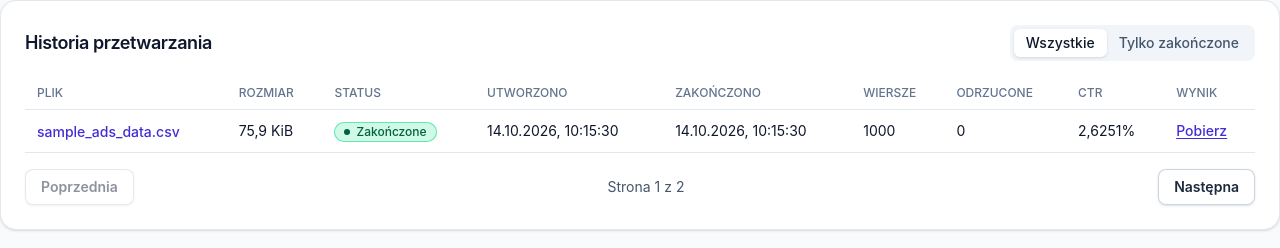
Test: JobHistory › asks only for finished jobs under the finished filter and starts again at page 1
Step 1. Click the button "Następna" → (1207, 187), box [1158,169,1255,205]
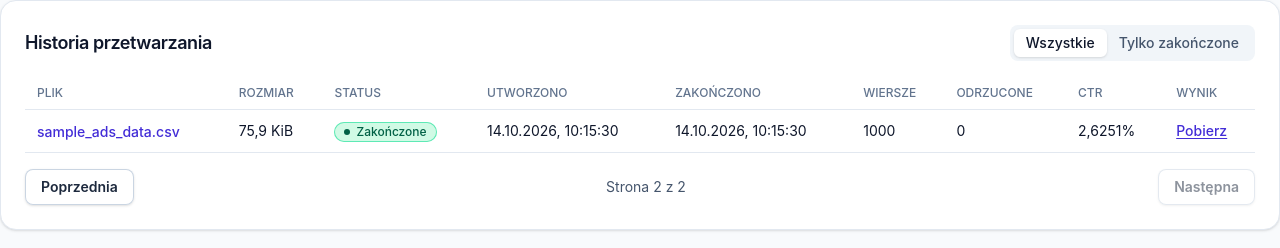
Expected: the text "Strona 2 z 2" is shown, [606,177,686,197]
Step 2. Click the radio button labelled "Tylko zakończone" → (1179, 42), box [1119,34,1239,51]
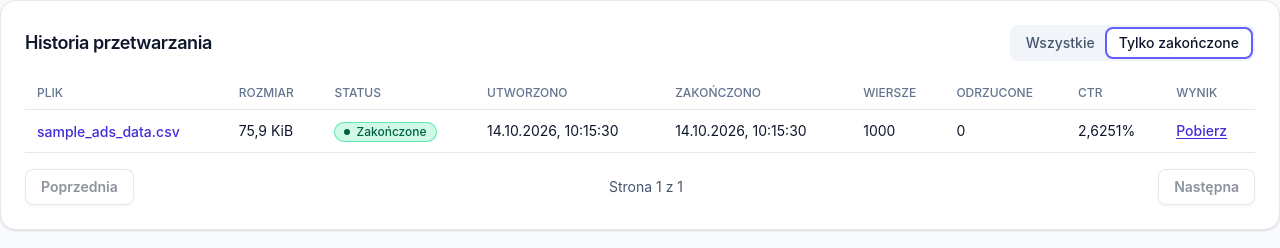
Expected: the text "Strona 1 z 1" is shown, [609,177,683,197]
